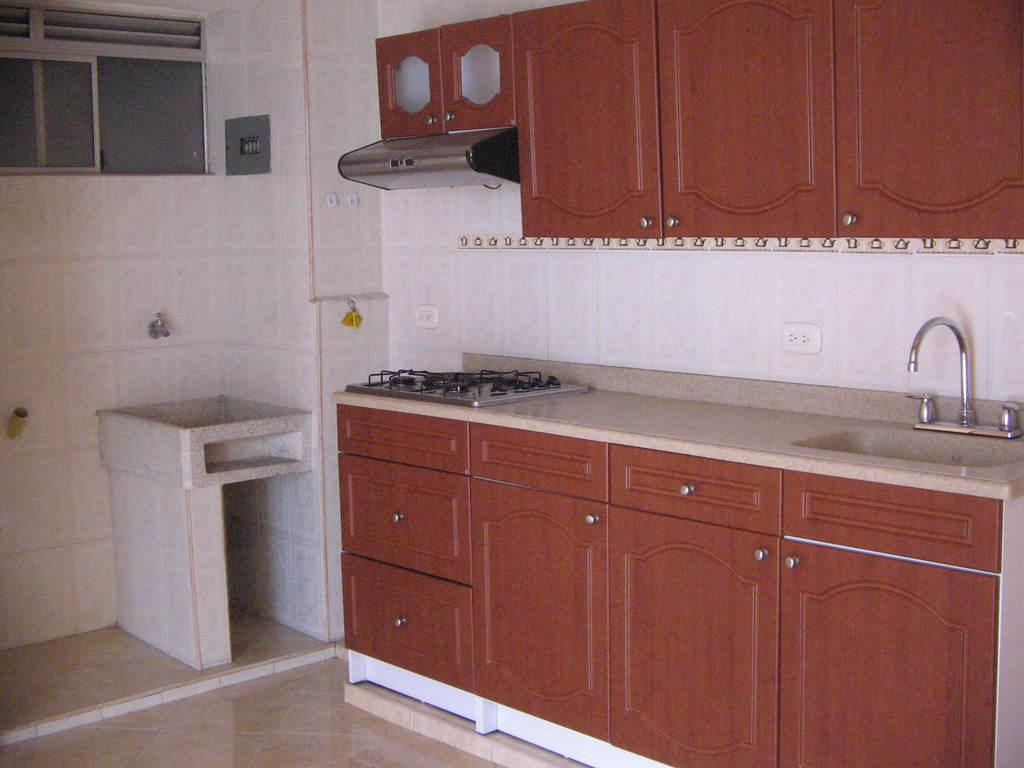cabinet_door: (786, 545, 994, 768), (844, 18, 1024, 240), (663, 26, 836, 232), (620, 527, 778, 749), (477, 478, 604, 708), (524, 39, 662, 231), (344, 456, 470, 568), (615, 445, 779, 527), (353, 566, 473, 678), (438, 32, 514, 133), (374, 36, 440, 132)
handle: (390, 600, 420, 644), (744, 538, 774, 572), (440, 96, 462, 132), (675, 479, 700, 507), (784, 548, 806, 578), (387, 502, 409, 532), (637, 211, 660, 239), (840, 208, 862, 237), (662, 212, 686, 234), (583, 506, 600, 536), (419, 110, 440, 132)
